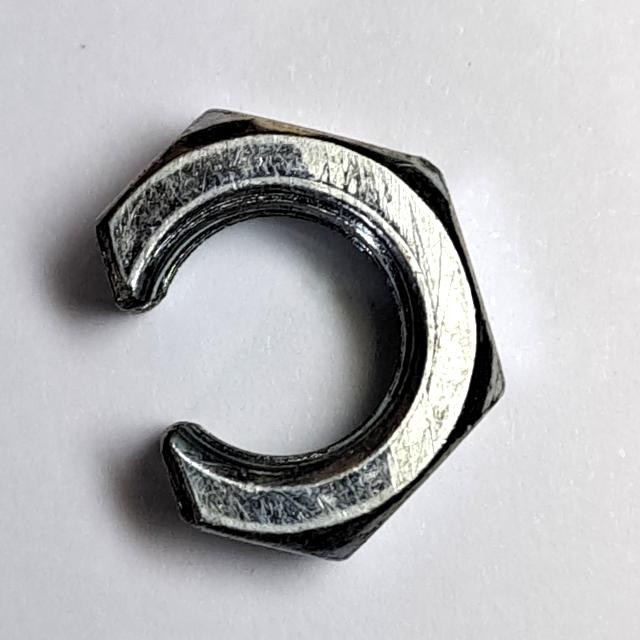Fracture: (85, 94, 514, 575)
